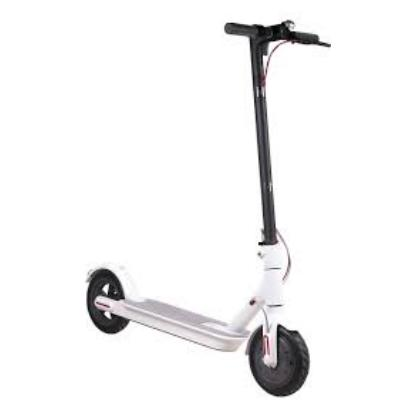bike: (84, 16, 331, 400)
